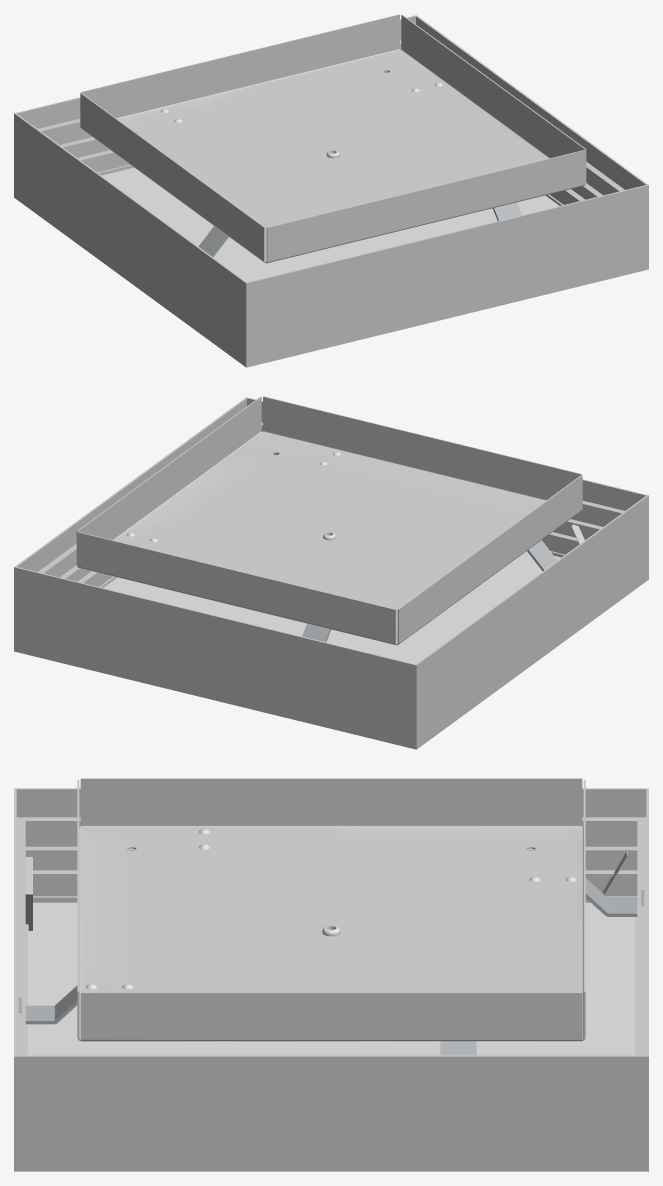
The model's file is IlumePlafon.glb.
3 renders of one model, top to bottom at view 1: azimuth 30°, elevation 25°; view 2: azimuth 150°, elevation 25°; view 3: azimuth 270°, elevation 25°, orthographic. The views are drawn at different scales.
Parts seen in each view (by area): view 1: 3DGeom-3, 3DGeom-16 (×4), 3DGeom-1; view 2: 3DGeom-3, 3DGeom-16 (×4), 3DGeom-1; view 3: 3DGeom-3, 3DGeom-16 (×4), 3DGeom-1, 3DGeom-4 (×2), 3DGeom-20.
Boxes of the visible parts, left/top/right/bottom form: 3DGeom-3: left=80, top=14, right=586, bottom=263; 3DGeom-16 (×4): left=14, top=15, right=648, bottom=367; 3DGeom-1: left=102, top=167, right=559, bottom=282; 3DGeom-3: left=76, top=396, right=582, bottom=645; 3DGeom-16 (×4): left=14, top=397, right=648, bottom=749; 3DGeom-1: left=103, top=551, right=560, bottom=664; 3DGeom-3: left=77, top=778, right=585, bottom=1041; 3DGeom-16 (×4): left=14, top=788, right=648, bottom=1171; 3DGeom-1: left=27, top=902, right=635, bottom=1055; 3DGeom-4 (×2): left=18, top=878, right=644, bottom=1024; 3DGeom-20: left=25, top=857, right=32, bottom=930.
Bounding box in the file's own units: 0.35 × 0.093 × 0.35.
3 materials, 1 textured.
